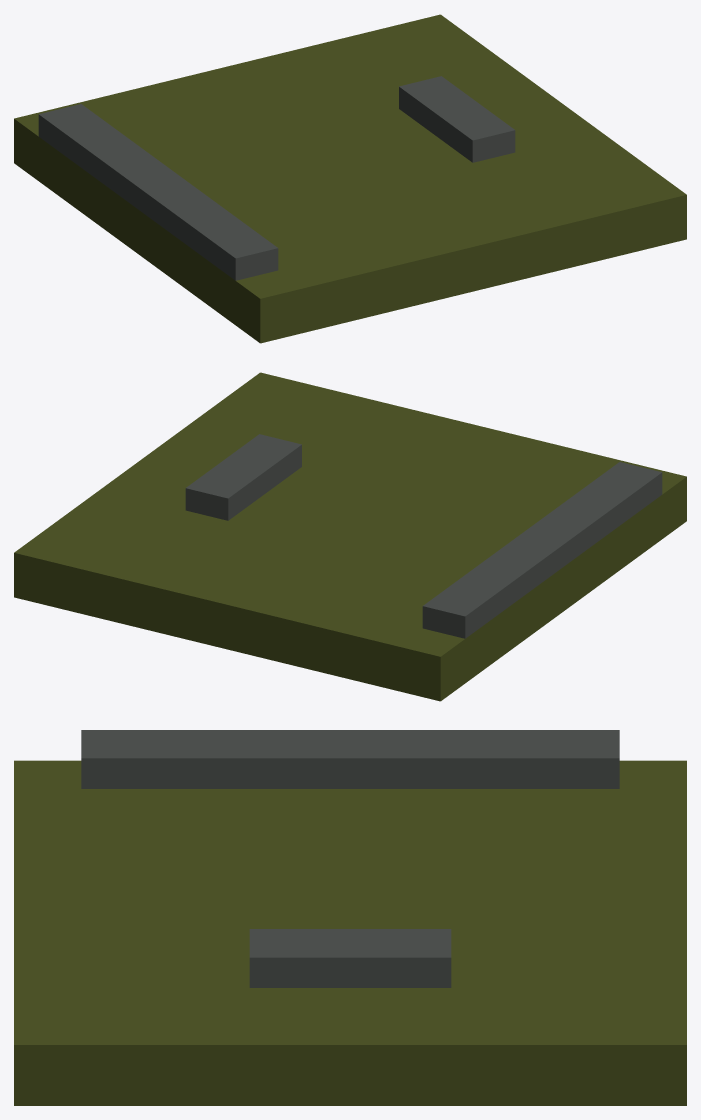
File: apc_hatch.glb
3 renders of one model, top to bottom at view 1: azimuth 30°, elevation 25°; view 2: azimuth 150°, elevation 25°; view 3: azimuth 270°, elevation 25°, orthographic. The views are drawn at different scales.
Visible parts, largest first — view 1: body:compound; view 2: body:compound; view 3: body:compound.
Boxes of the visible parts, x1,y1,x2,y2 form: body:compound: (14, 14, 686, 343); body:compound: (14, 372, 686, 701); body:compound: (14, 730, 686, 1105).
Bounding box in the file's own units: 0.625 × 0.0938 × 0.625.
